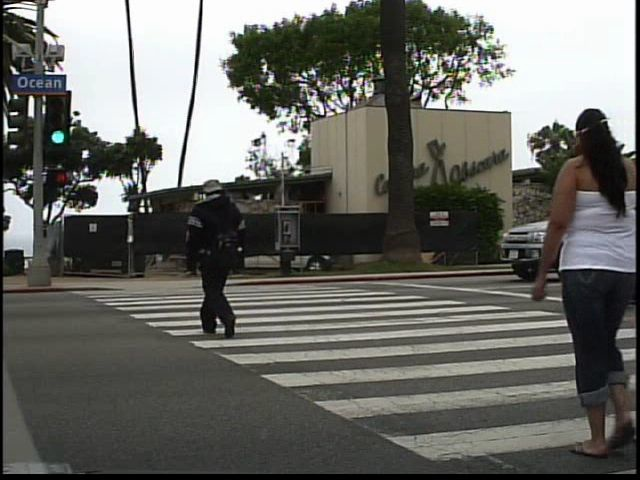person: (528, 103, 629, 469), (176, 167, 266, 348)
